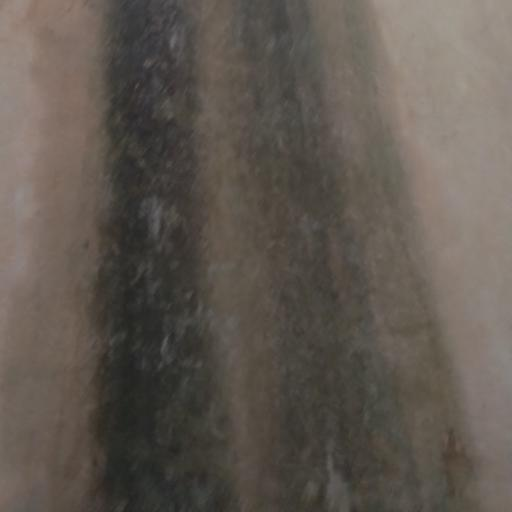algae: (76, 7, 503, 512)
